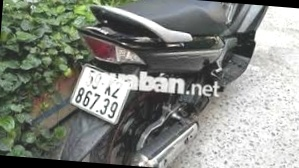Bien-so: (69, 64, 131, 125)
